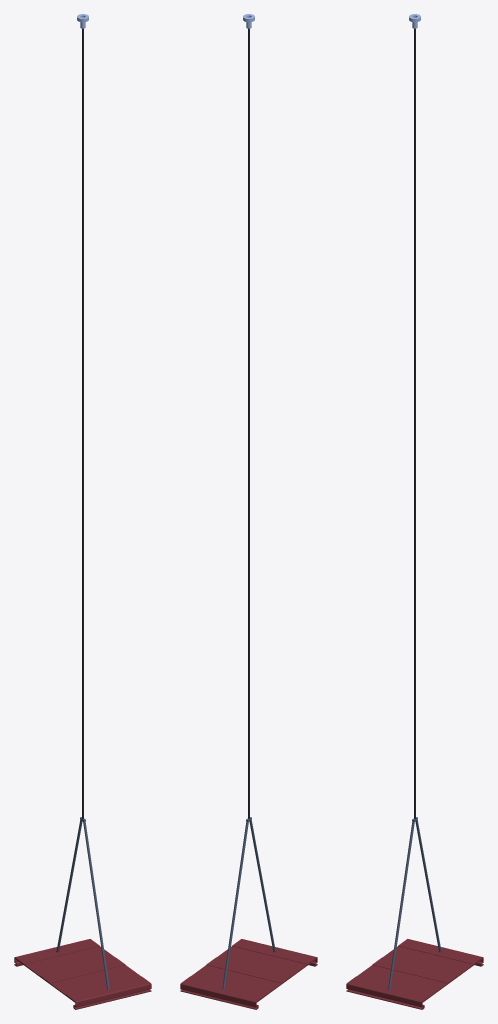
The model's file is PENDELAUFHAENGUNG_BASIS.gltf.
3 renders of one model, left to right at view 1: azimuth 30°, elevation 25°; view 2: azimuth 150°, elevation 25°; view 3: azimuth 330°, elevation 25°, orthographic.
Parts seen in each view (by area): view 1: root; view 2: root; view 3: root.
Part boxes in pixels (x1,y1,x2,y2): root: (14, 14, 151, 1009); root: (180, 14, 317, 1009); root: (346, 14, 483, 1009).
Size of the model in its own units: 0.05 by 0.608 by 0.0706.
